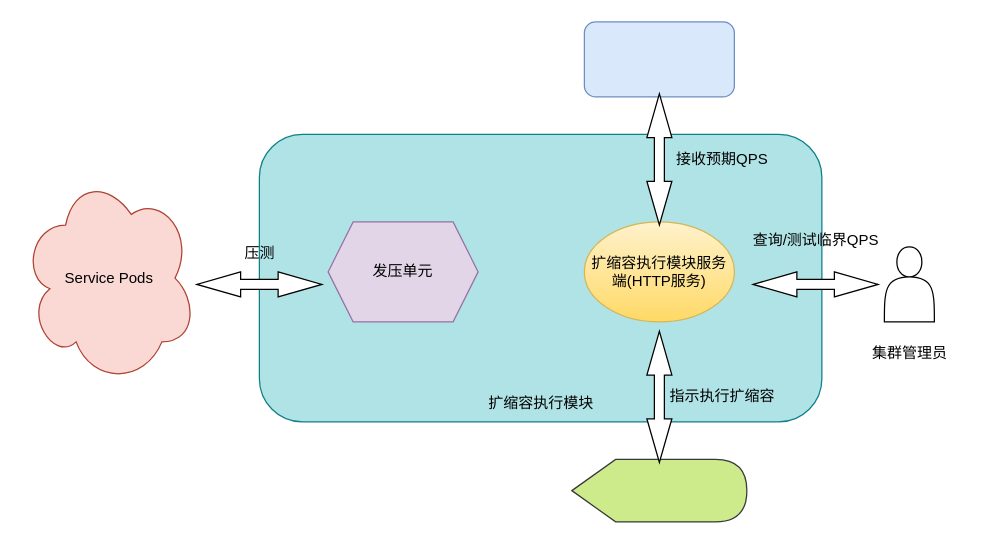
The diagram is 981 pixels wide and 544 high, and some of its shapes have lost their labels. Each missing label, with the centre of its shape:
Kubernetes控制平面: [659,490]
模型应用模块: [658,59]
